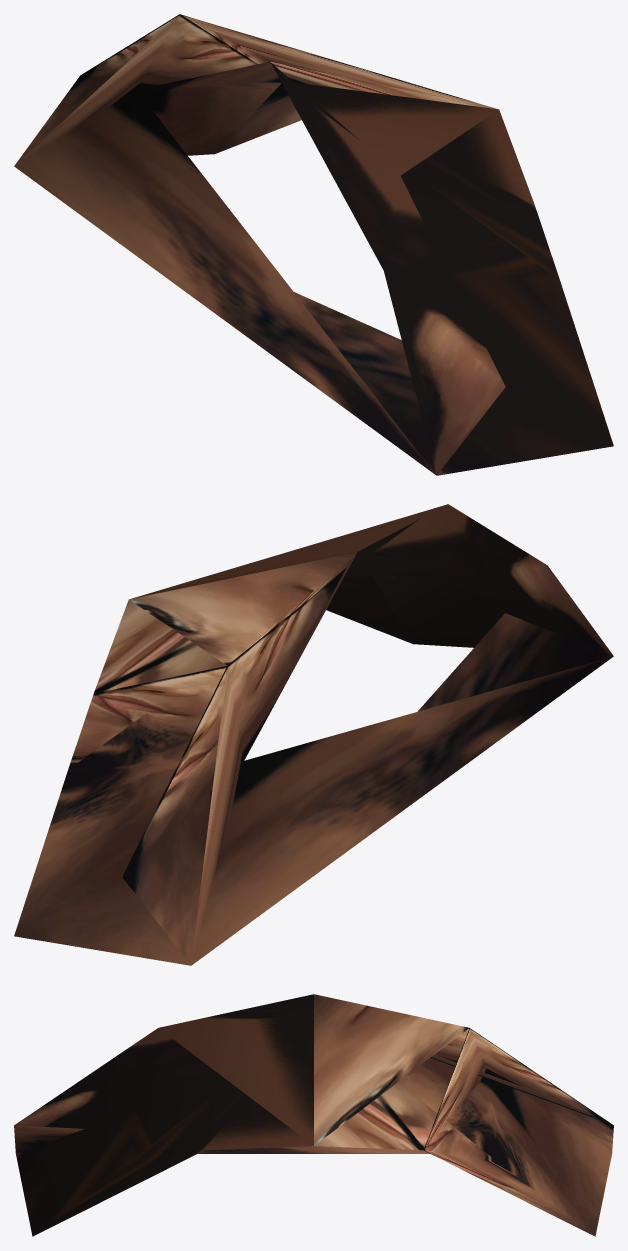
Rendered from a_wt_m_wai_01.obj.
3 views of the same model, one above another, from view 1: azimuth 30°, elevation 25°; view 2: azimuth 150°, elevation 25°; view 3: azimuth 270°, elevation 25° (orthographic). The views are drawn at different scales.
Bounding box in the file's own units: 3.24 × 3.09 × 8.72.
